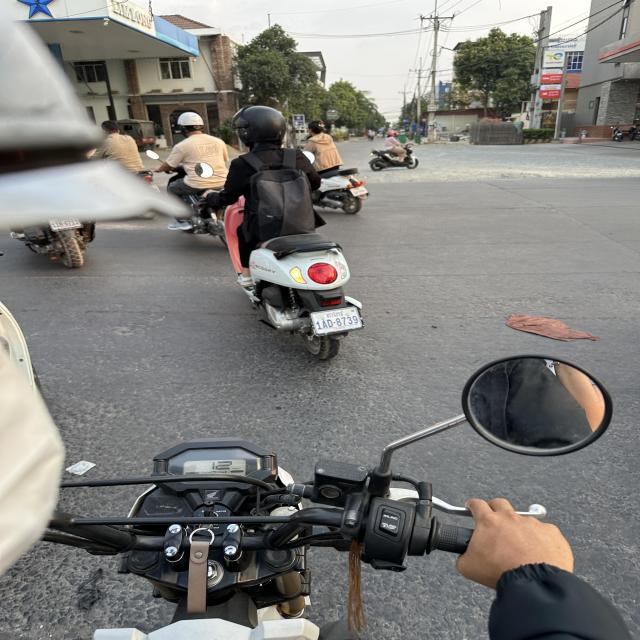Takeo: (325, 309, 344, 318)
